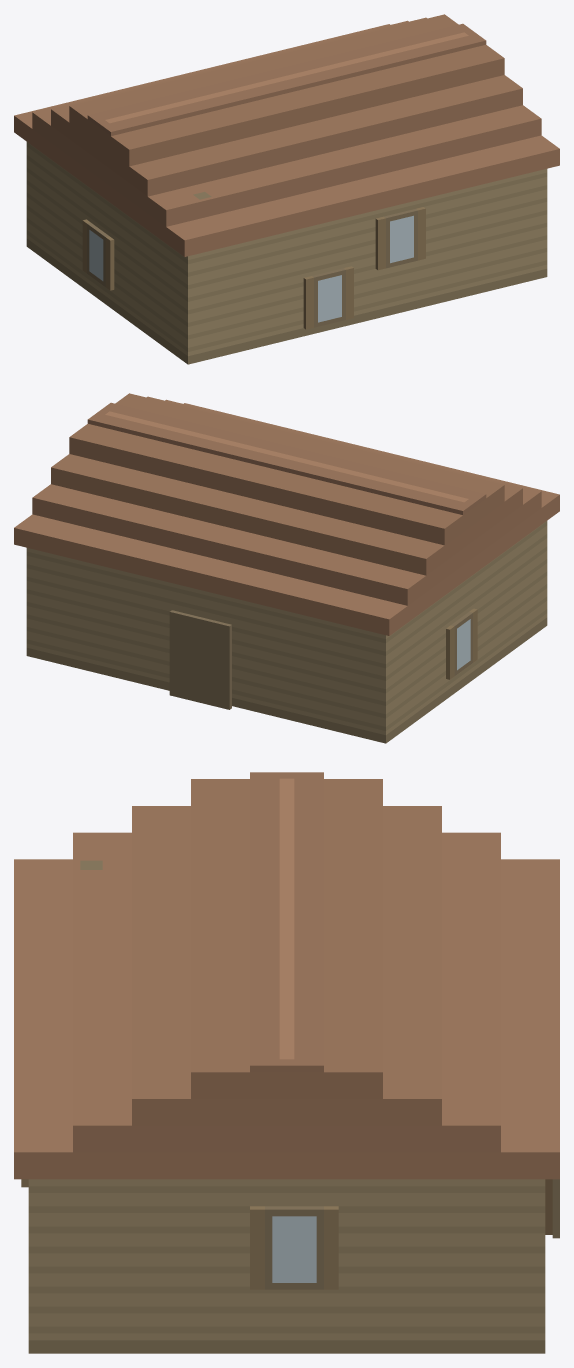
File: hilanderia_03.glb
The picture shows the model from 3 angles, top to bottom: view 1: azimuth 30°, elevation 25°; view 2: azimuth 150°, elevation 25°; view 3: azimuth 270°, elevation 25°; orthographic projection. The views are drawn at different scales.
Parts seen in each view (by area): view 1: hilanderia_03; view 2: hilanderia_03; view 3: hilanderia_03.
Boxes of the visible parts, x1,y1,x2,y2 form: hilanderia_03: (14,14,559,364); hilanderia_03: (14,393,559,743); hilanderia_03: (14,772,559,1353).
Size of the model in its own units: 9.4 by 4.4 by 7.4.
